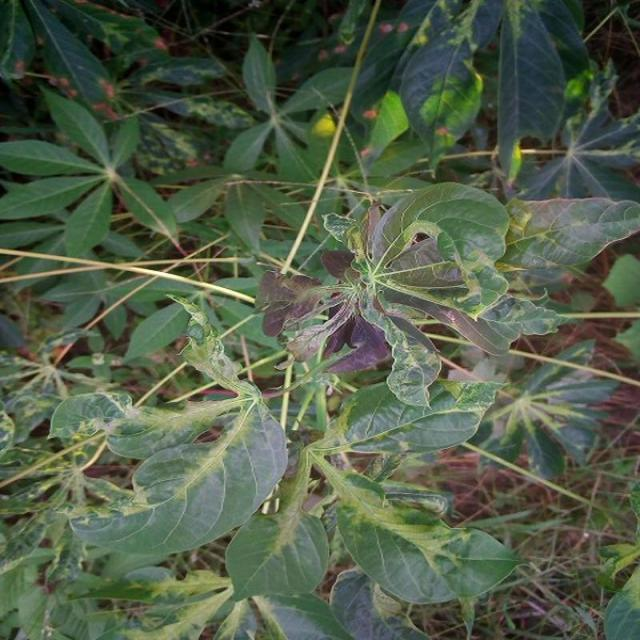cassava leaf: (2, 1, 638, 637), (68, 395, 288, 559), (335, 480, 525, 605)
